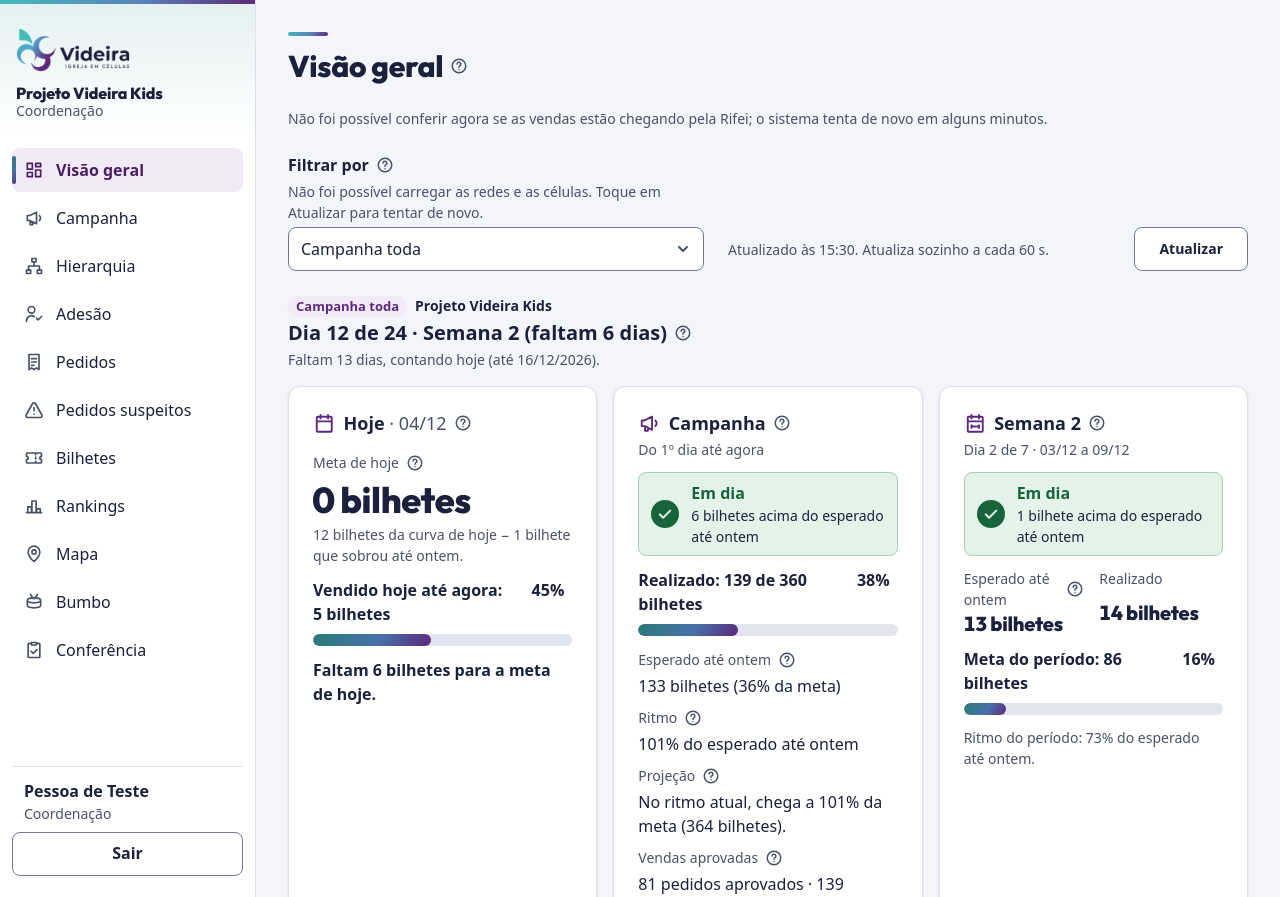
Test: CA4: filtro do recorte e atualização › sem a lista de células, o filtro avisa e oferece a campanha e as divisões; o Atualizar busca a lista de novo
Expected: the text "Atualizado às 15:30. Atualiza sozinho a cada 60 s." is shown, [728,240,1049,258]
Expected: the text "Não foi possível carregar as redes e as células." is shown, [288,182,661,222]
Click the button "Atualizar". click: (1191, 249)
box: [1134,227,1248,271]
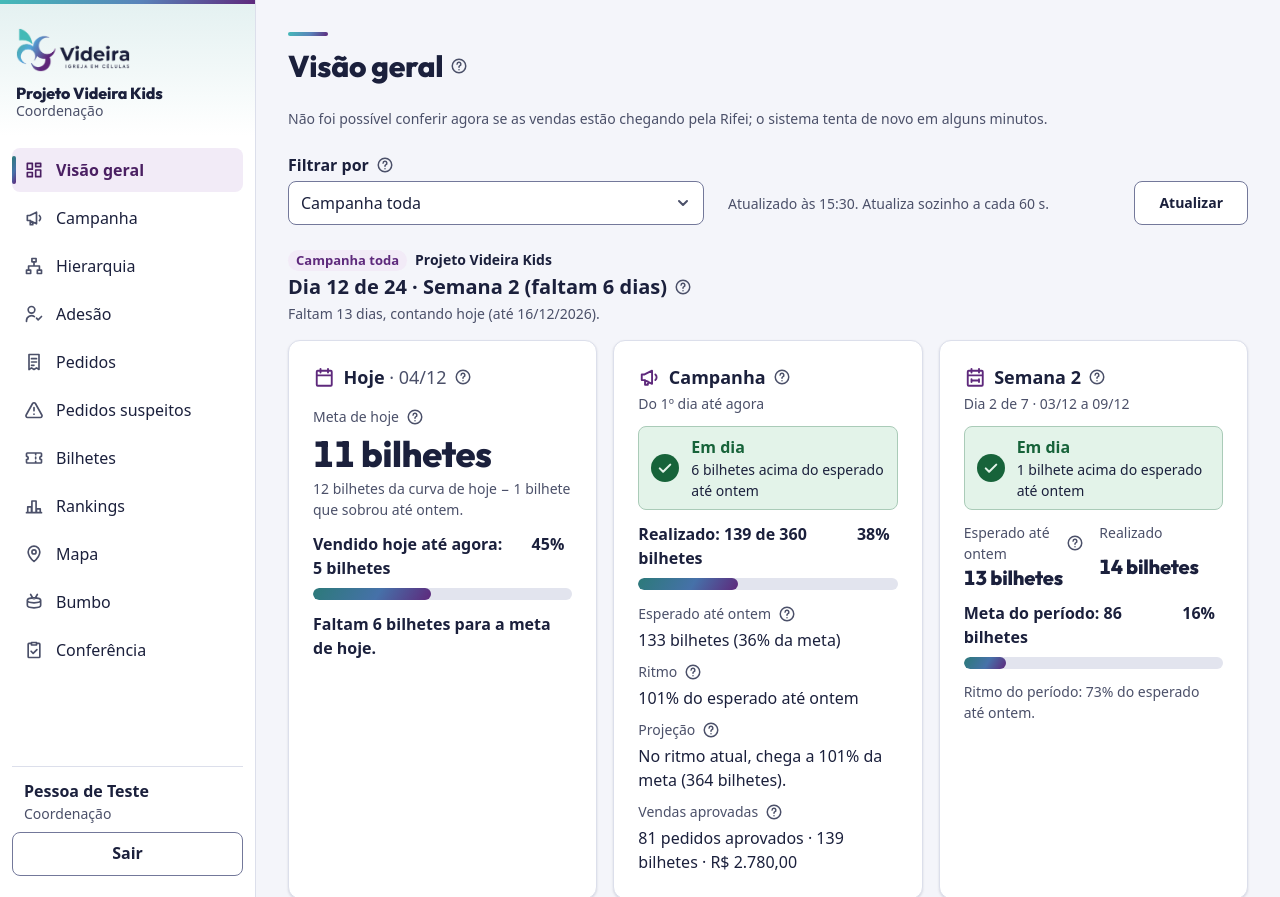
Expected: the text "Não foi possível carregar as redes" is gone
